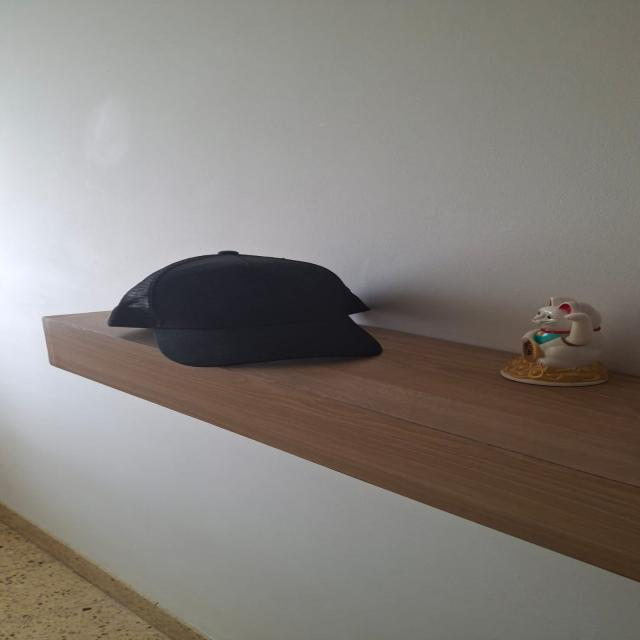Gorra: (100, 251, 407, 369)
